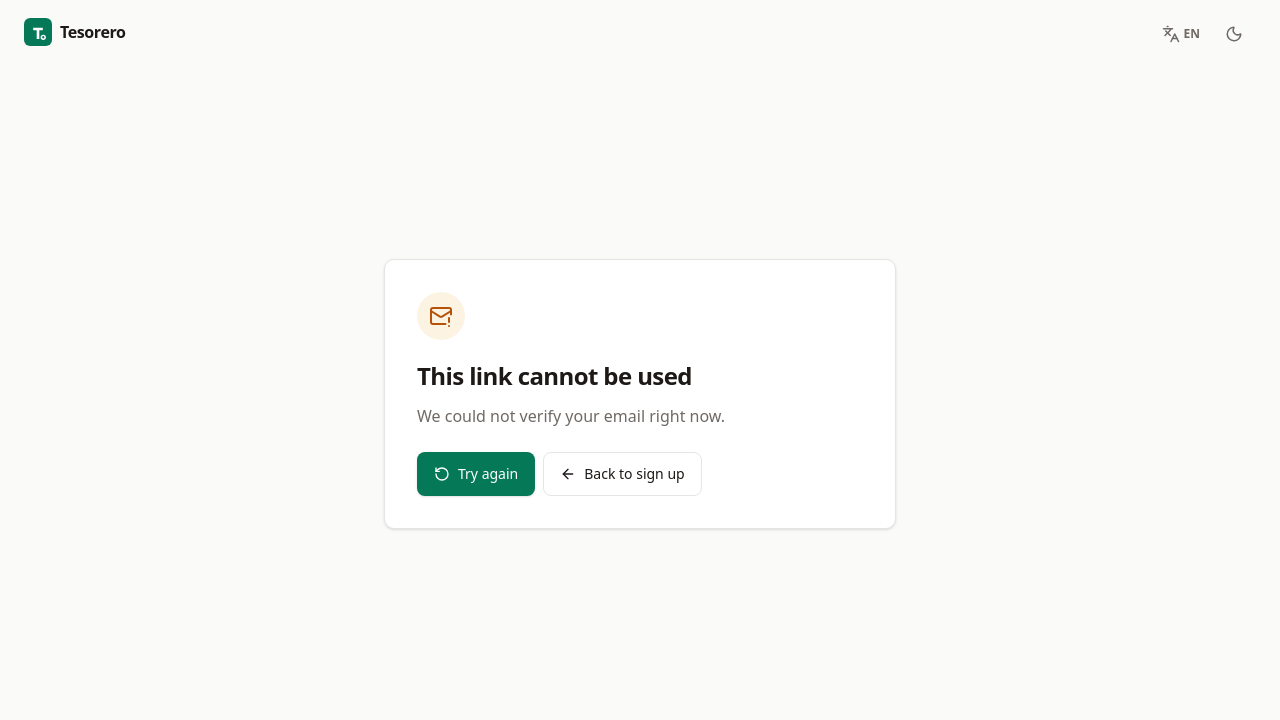
Test: Email verification (/verify) › lets the visitor retry after a transient failure
The image size is (1280, 720).
Click the button with test id "verify-retry" at (476, 474), box [417,452,535,496]
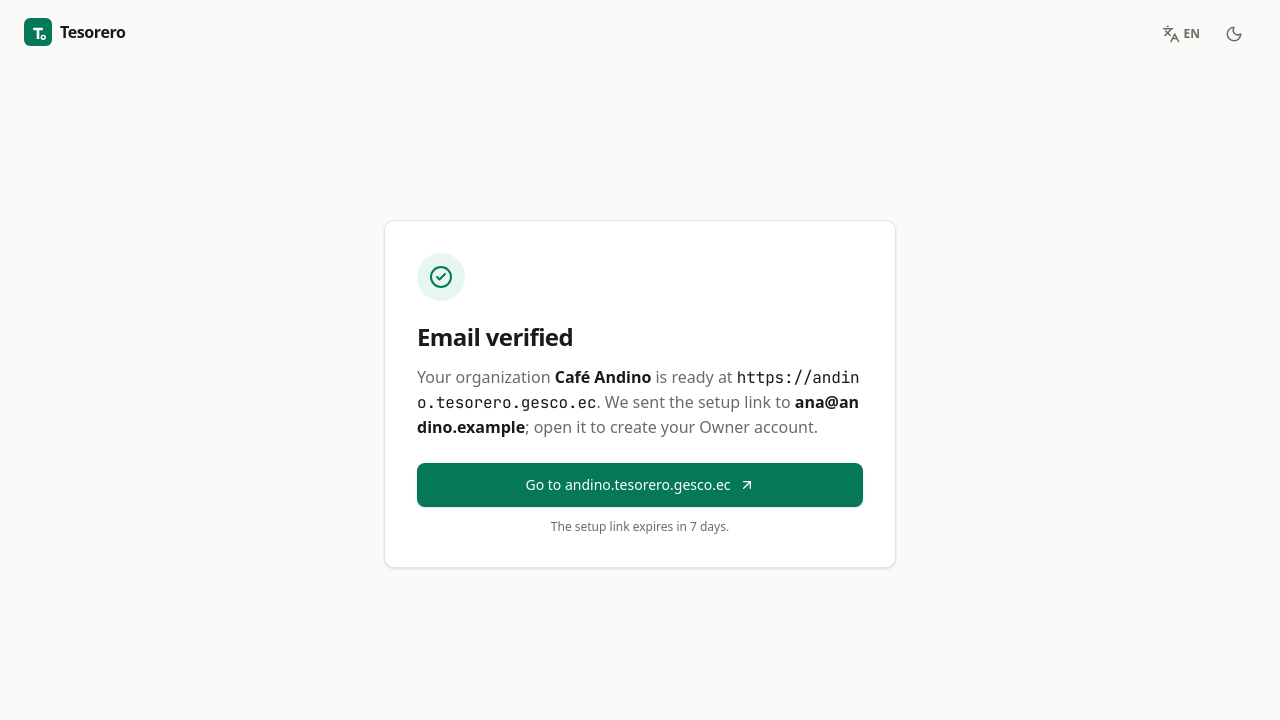
Now the element with test id "verify-success" is shown, box [417,253,863,535]
